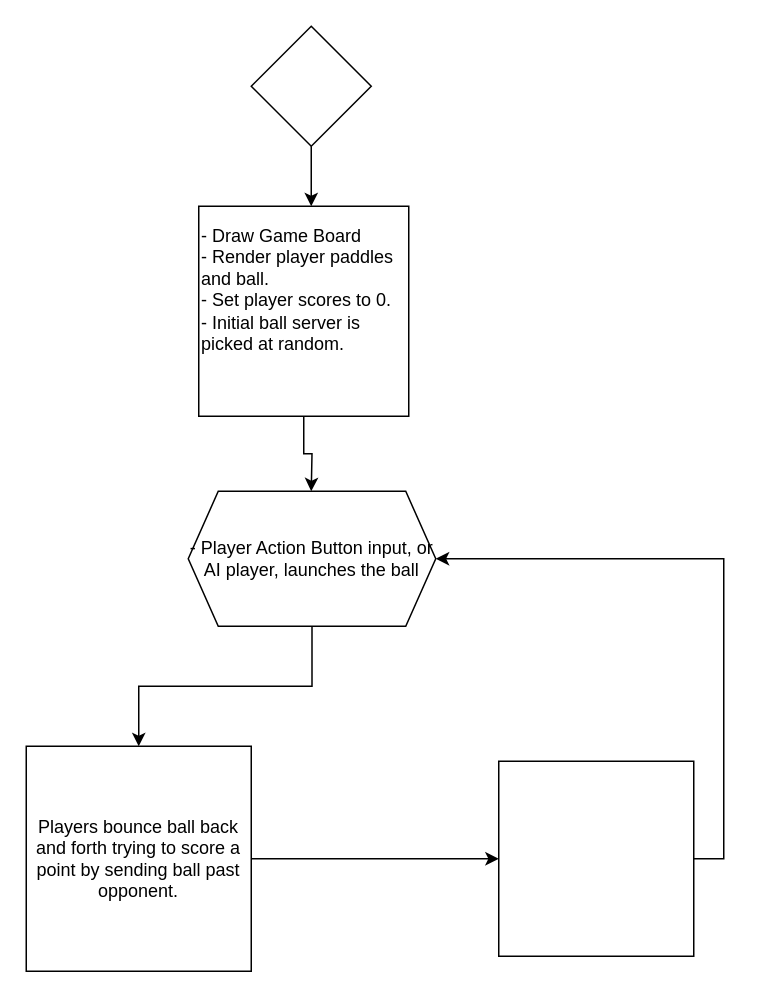
Image size: 762x998. Some labels were removed from this diagram. Here are the shapes that lost their labels. From the top down, the centre of each, then its label:
At [310,85]: "Start Game".
At [595,858]: "- Scoring player earns points. - Scoring player serves ball.".
